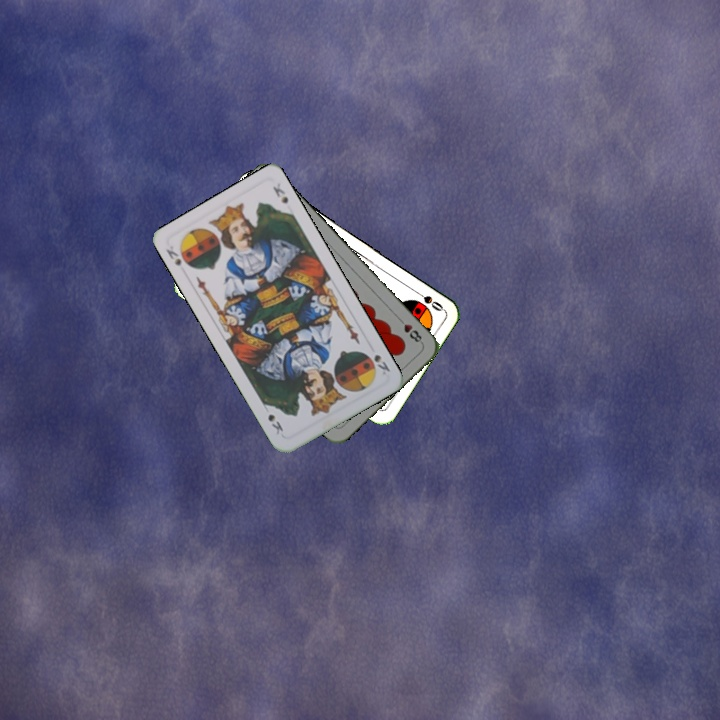H8: (394, 313, 425, 346)
SK: (370, 350, 393, 378), (162, 242, 184, 268)
SO: (410, 285, 446, 314)
